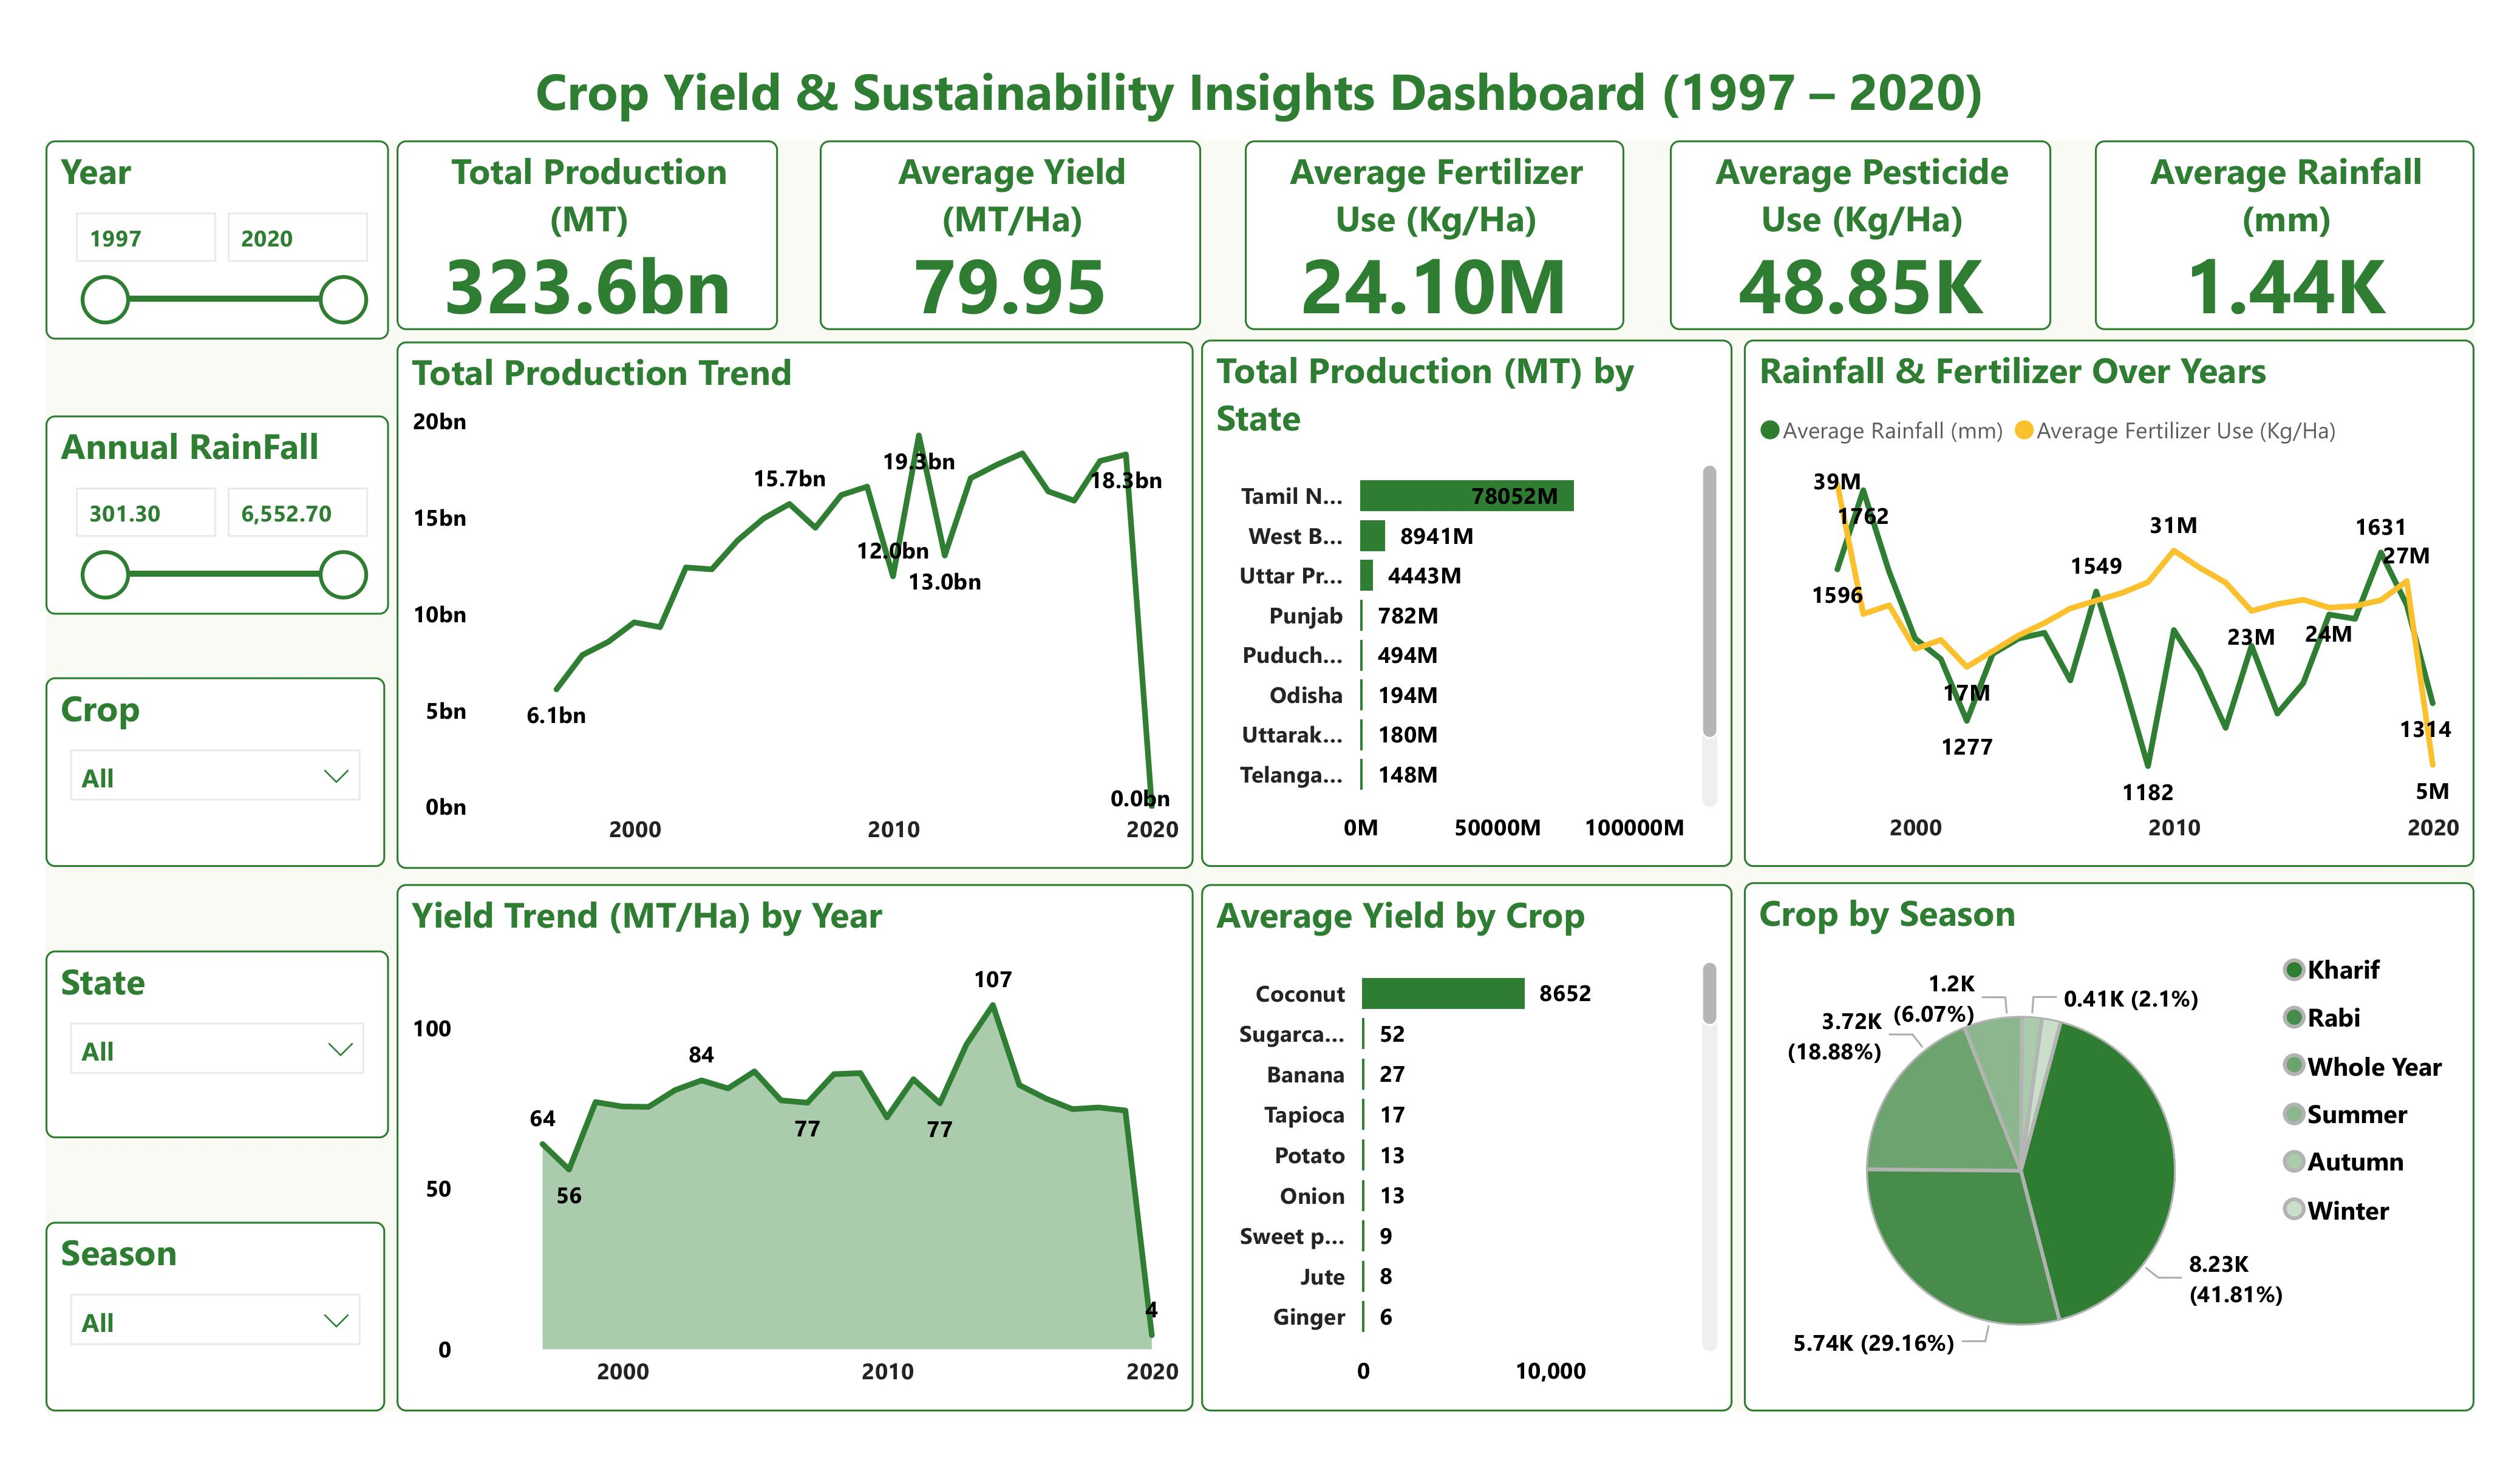

This screenshot's page, from the dashboard's own definition file:
{"tool":"powerbi","page":{"name":"Page 1","canvas":[1280,720],"ordinal":0},"visuals":[{"type":"textbox","box":[0,0,1280.3,50],"z":0},{"type":"slicer","title":"Crop","fields":{"Values":["Crop Yield.Crop"]},"box":[0,332.9,179.2,100],"z":1000},{"type":"slicer","title":"State","fields":{"Values":["Crop Yield.State"]},"box":[0,476.6,180.7,99.6],"z":2000},{"type":"slicer","title":"Season","fields":{"Values":["Crop Yield.Season"]},"box":[0,620.2,179.2,99.6],"z":3000},{"type":"slicer","title":"Year","fields":{"Values":["Crop Yield.Crop Year"]},"box":[0,49.8,180.7,105],"z":4000},{"type":"slicer","title":"Annual RainFall","fields":{"Values":["Crop Yield.Annual Rainfall"]},"box":[0,194.9,180.7,105],"z":5000},{"type":"card","title":"Average Yield (MT/Ha)","fields":{"Values":["My Measures.Average Yield (MT/Ha)"]},"box":[408.3,50,200.6,99.6],"z":6000},{"type":"card","title":"Total Production (MT)","fields":{"Values":["My Measures.Total Production (MT)"]},"box":[185,50,200.6,100],"z":7000},{"type":"card","title":"Average Rainfall (mm)","fields":{"Values":["My Measures.Average Rainfall (mm)"]},"box":[1079.7,50,200.6,99.6],"z":8000},{"type":"card","title":"Average Fertilizer Use (Kg/Ha)","fields":{"Values":["My Measures.Average Fertilizer Use (Kg/Ha)"]},"box":[631.6,50,200.6,99.6],"z":9000},{"type":"card","title":"Average Pesticide Use (Kg/Ha)","fields":{"Values":["My Measures.Average Pesticide Use (Kg/Ha)"]},"box":[856.4,50,200.6,99.6],"z":10000},{"type":"lineChart","title":"Total Production Trend","fields":{"Category":["Crop Yield.Crop Year"],"Y":["Sum(Crop Yield.Production)"]},"box":[184.9,156.5,419.7,277.4],"z":11000},{"type":"barChart","title":"Average Yield by Crop","fields":{"Category":["Crop Yield.Crop"],"Y":["My Measures.Average Yield (MT/Ha)"]},"box":[608.8,442.4,280.2,277.4],"z":12000},{"type":"clusteredBarChart","fields":{"Category":["Crop Yield.State"],"Y":["My Measures.Total Production (MT)"]},"box":[608.8,155.1,280,278],"z":13000},{"type":"areaChart","title":"Yield Trend (MT/Ha) by Year","fields":{"Y":["My Measures.Average Yield (MT/Ha)"],"Category":["Crop Yield.Crop Year"]},"box":[184.9,442.4,419.7,277.4],"z":14000},{"type":"lineChart","title":"Rainfall & Fertilizer Over Years","fields":{"Category":["Crop Yield.Crop Year"],"Y":["My Measures.Average Rainfall (mm)"],"Y2":["My Measures.Average Fertilizer Use (Kg/Ha)"]},"box":[894.8,155.1,385.5,278],"z":15000},{"type":"pieChart","title":"Crop by Season","fields":{"Category":["Crop Yield.Season"],"Y":["CountNonNull(Crop Yield.Crop)"]},"box":[894.8,441,385.5,278.8],"z":16000}]}

Visuals, with their boxes in screenshot pixels (x1, y1, x2, y2):
textbox: x1=46, y1=46, x2=2474, y2=140
"Crop" slicer: x1=46, y1=677, x2=386, y2=867
"State" slicer: x1=46, y1=949, x2=389, y2=1139
"Season" slicer: x1=46, y1=1222, x2=386, y2=1411
"Year" slicer: x1=46, y1=140, x2=389, y2=339
"Annual RainFall" slicer: x1=46, y1=415, x2=389, y2=614
"Average Yield (MT/Ha)" card: x1=820, y1=140, x2=1201, y2=329
"Total Production (MT)" card: x1=397, y1=140, x2=777, y2=330
"Average Rainfall (mm)" card: x1=2094, y1=140, x2=2474, y2=329
"Average Fertilizer Use (Kg/Ha)" card: x1=1244, y1=140, x2=1625, y2=329
"Average Pesticide Use (Kg/Ha)" card: x1=1670, y1=140, x2=2051, y2=329
"Total Production Trend" lineChart: x1=397, y1=342, x2=1193, y2=869
"Average Yield by Crop" barChart: x1=1200, y1=885, x2=1732, y2=1411
clusteredBarChart - Crop Yield.State x My Measures.Total Production (MT): x1=1200, y1=340, x2=1732, y2=867
"Yield Trend (MT/Ha) by Year" areaChart: x1=397, y1=885, x2=1193, y2=1411
"Rainfall & Fertilizer Over Years" lineChart: x1=1743, y1=340, x2=2474, y2=867
"Crop by Season" pieChart: x1=1743, y1=882, x2=2474, y2=1411
